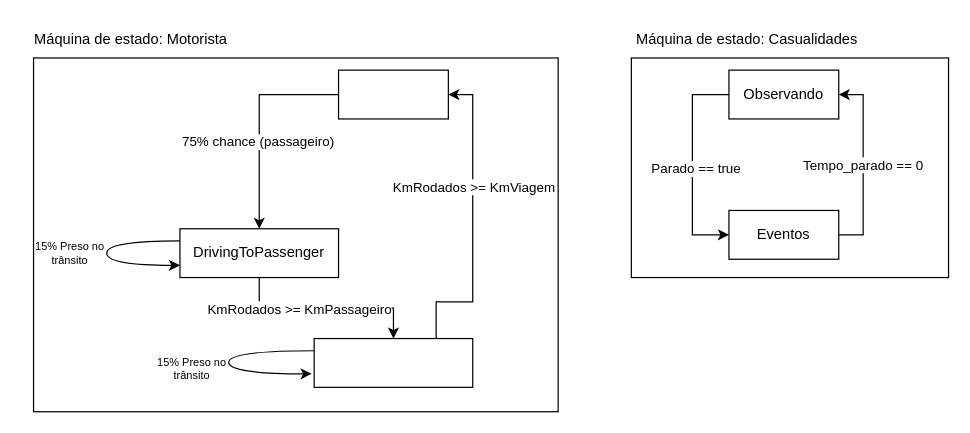
Some shapes in this 970 by 433 pixel diagram are drawn without their labels. The shapes that lost their labels are listed below. From the top down, each one's box as (x1, y1, x2, y2) in pixels, then its label:
(337, 69, 448, 119): Parking
(313, 337, 473, 387): DelieveringPassanger
